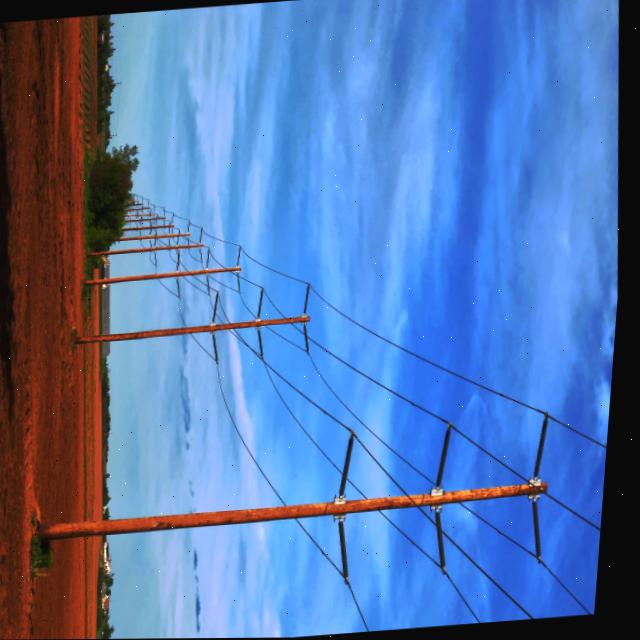poles: (39, 475, 554, 536), (76, 312, 313, 342), (84, 263, 243, 287), (103, 235, 207, 257)
wires: (218, 257, 549, 492), (399, 488, 595, 623)
